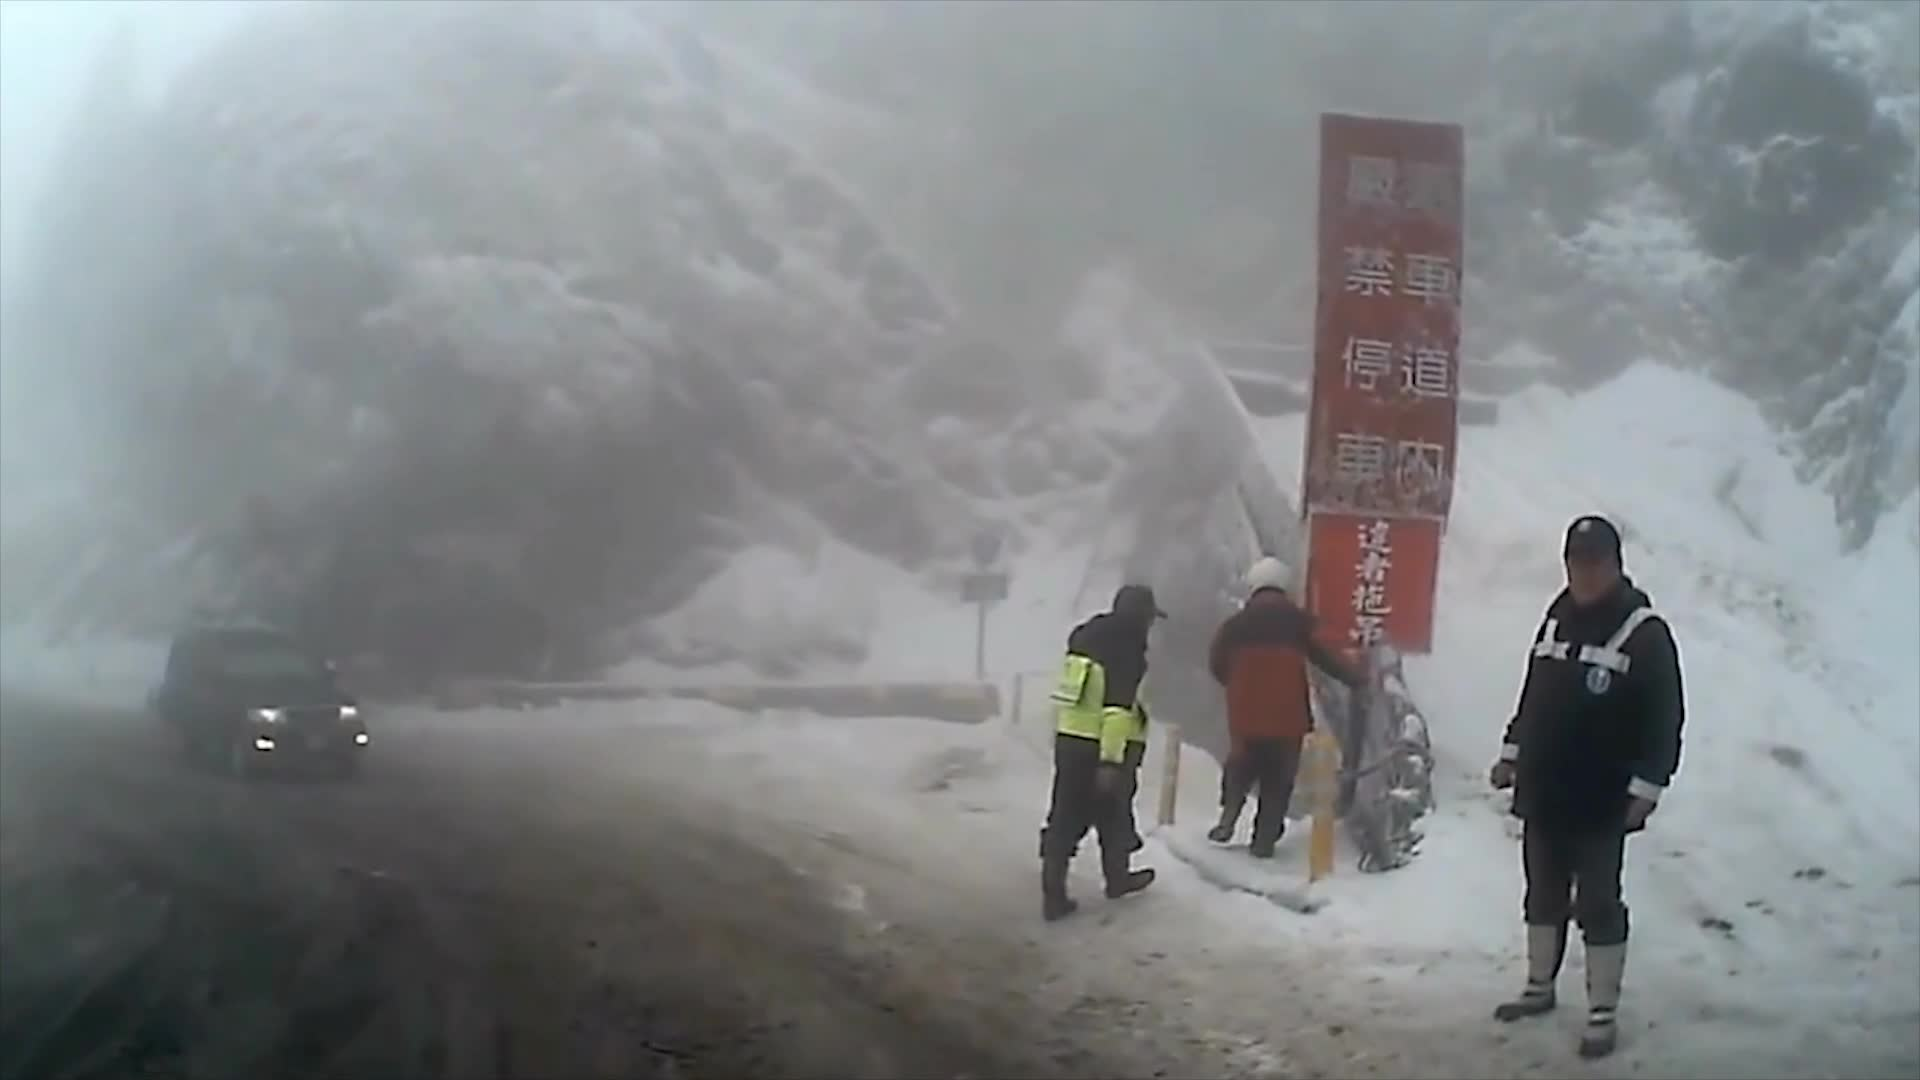pedestrian: (1492, 515, 1692, 1062), (1037, 585, 1164, 919), (1212, 553, 1343, 859)
vehicle: (160, 632, 371, 793)
